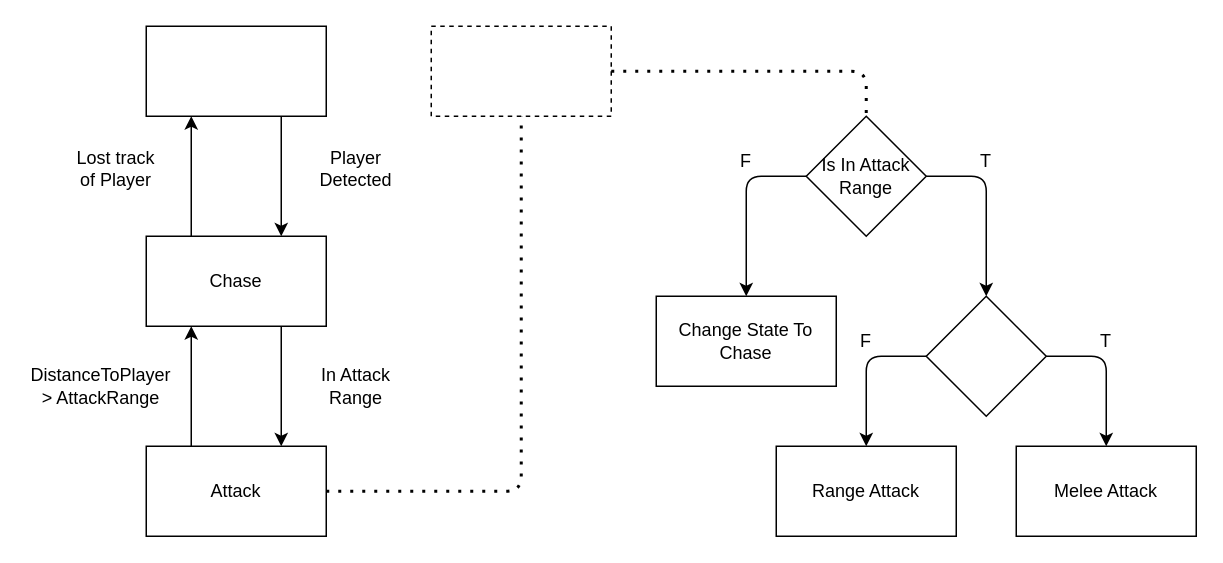
Some shapes in this 1223 by 563 pixel diagram are drawn without their labels. The shapes that lost their labels are listed below. From the top down, each one's centre as x and y in pixels, then its label:
At point 235,70: "Patrol".
At point 520,70: "Decision Tree".
At point 985,355: "Is In Melee Range".
